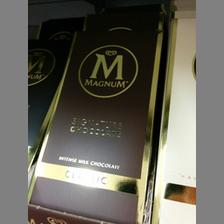Schokolade: (37, 32, 159, 220)
